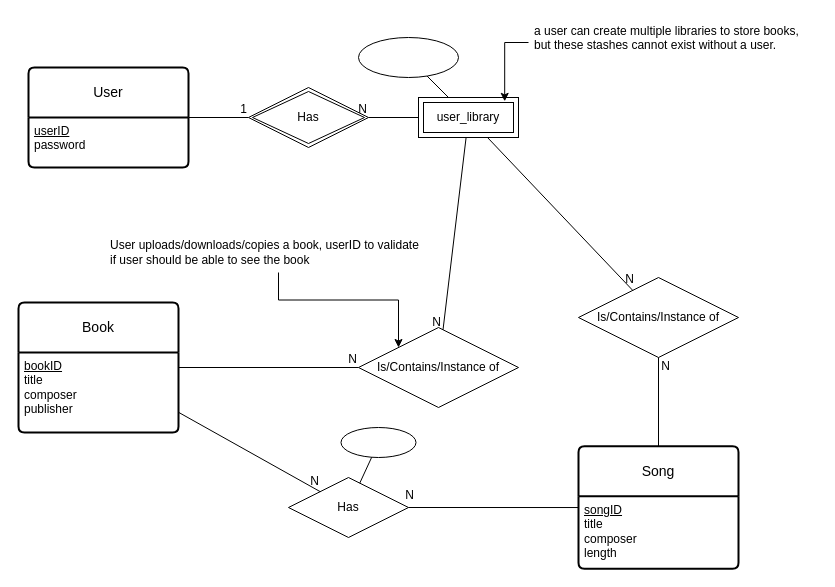
Image size: 835x587. Some labels were removed from this diagram. Each missing label, with the centre of its shape:
libraryID: [408,57]
page: [378,442]
